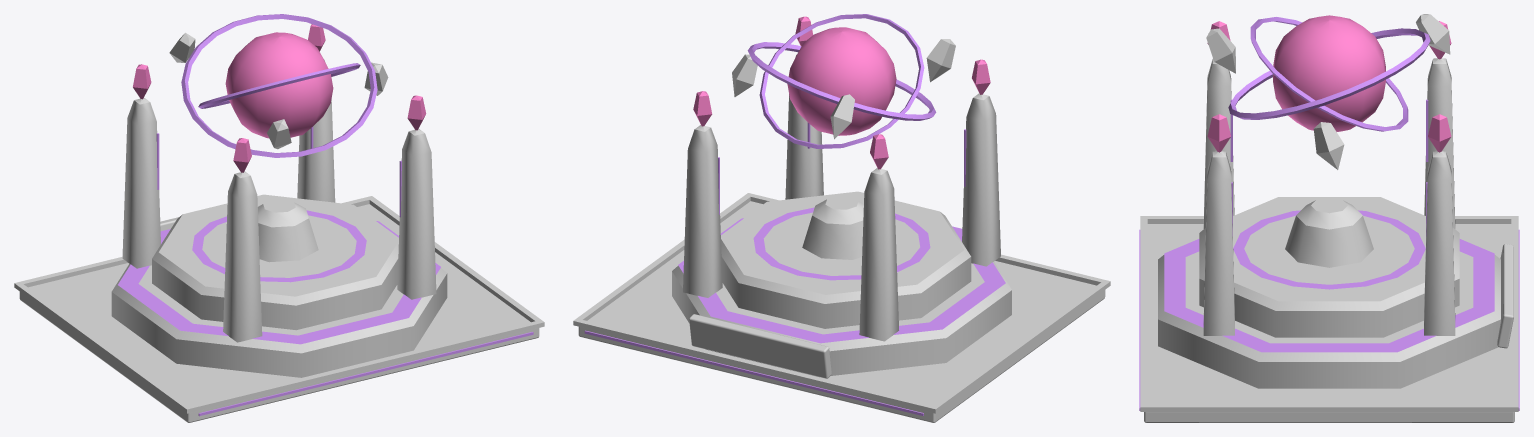
File: RebirthAltar.glb
The picture shows the model from 3 angles, left to right: view 1: azimuth 30°, elevation 25°; view 2: azimuth 150°, elevation 25°; view 3: azimuth 270°, elevation 25°; orthographic projection. The views are drawn at different scales.
Visible parts, largest first — view 1: Body, Glow, Core; view 2: Body, Glow, Core; view 3: Body, Glow, Core.
Boxes of the visible parts, left/top/right/bottom form: Body: left=14, top=32, right=544, bottom=422; Glow: left=118, top=14, right=533, bottom=416; Core: left=133, top=24, right=426, bottom=172; Body: left=573, top=39, right=1110, bottom=422; Glow: left=584, top=14, right=1005, bottom=415; Core: left=693, top=16, right=990, bottom=169; Body: left=1140, top=14, right=1518, bottom=422; Glow: left=1139, top=17, right=1519, bottom=410; Core: left=1207, top=15, right=1451, bottom=152.
Bounding box in the file's own units: 12.2 × 9.18 × 10.26.
